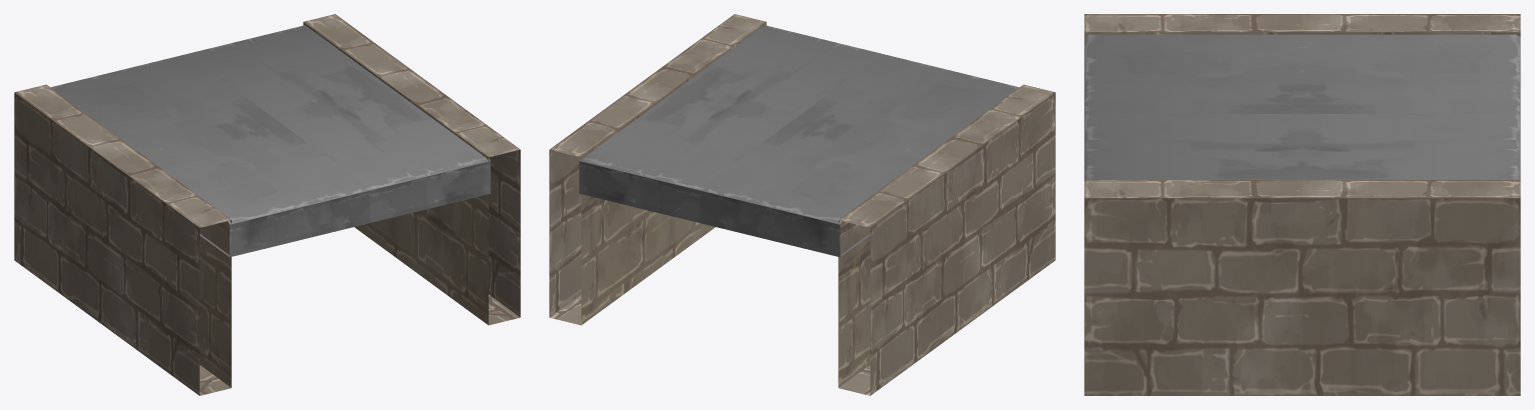
File: Stairs_Exterior_Platform.obj
The picture shows the model from 3 angles, left to right: view 1: azimuth 30°, elevation 25°; view 2: azimuth 150°, elevation 25°; view 3: azimuth 270°, elevation 25°; orthographic projection. The views are drawn at different scales.
Visible parts, largest first — view 1: Stairs_Exterior_Platform; view 2: Stairs_Exterior_Platform; view 3: Stairs_Exterior_Platform.
Part boxes in pixels (x1=…): Stairs_Exterior_Platform: x1=14, y1=14, x2=520, y2=395; Stairs_Exterior_Platform: x1=549, y1=14, x2=1055, y2=395; Stairs_Exterior_Platform: x1=1084, y1=14, x2=1520, y2=395.
Bounding box in the file's own units: 2 × 1 × 2.
